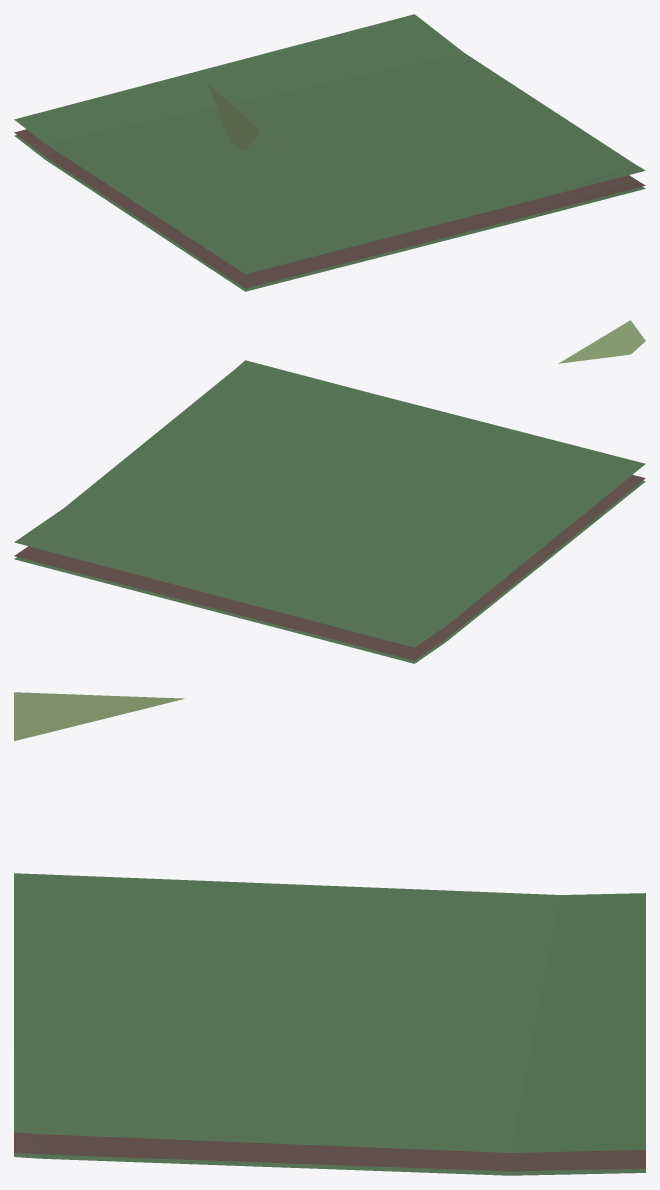
File: cell_040.obj
The picture shows the model from 3 angles, top to bottom: view 1: azimuth 30°, elevation 25°; view 2: azimuth 150°, elevation 25°; view 3: azimuth 270°, elevation 25°; orthographic projection. The views are drawn at different scales.
Bounding box in the file's own units: 1 × 0.4103 × 1.
